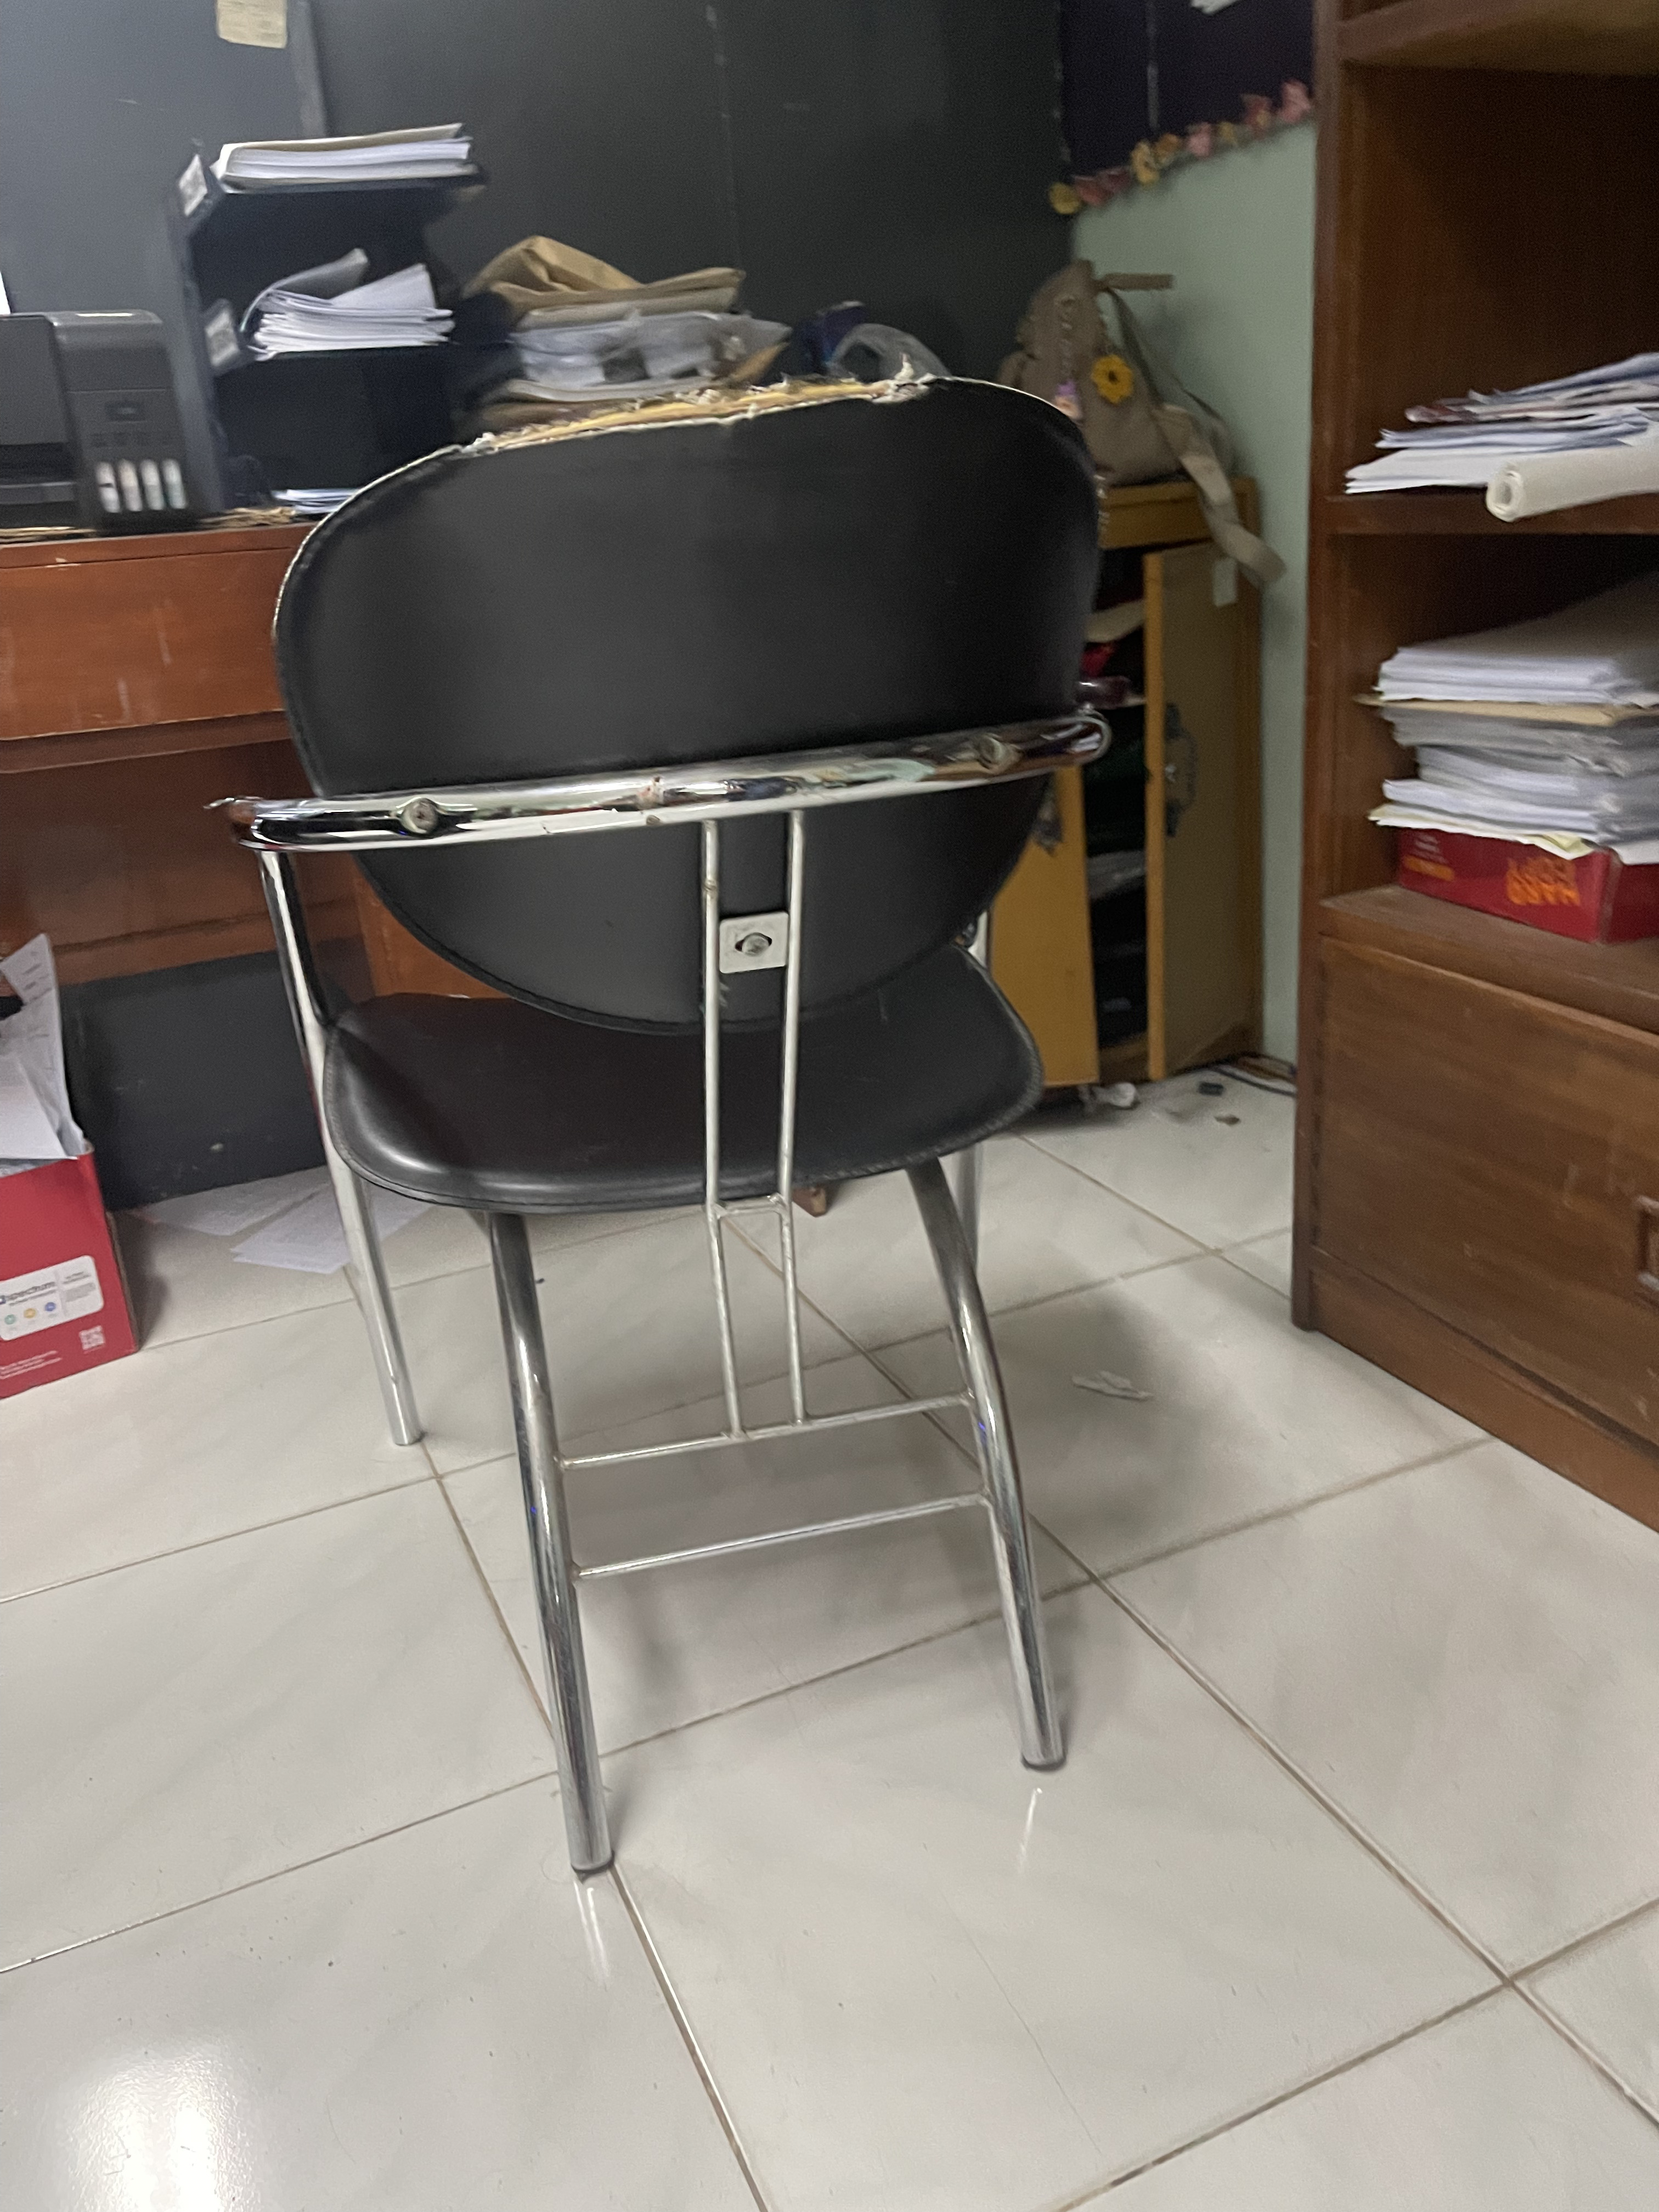chair1: (209, 362, 1136, 1912)
